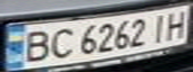2: (93, 19, 118, 54), (127, 15, 151, 47)
6: (75, 21, 100, 56), (112, 17, 136, 51)
B: (18, 27, 54, 63)
C: (45, 25, 78, 60)
H: (160, 7, 193, 40)
I: (148, 11, 172, 44)
